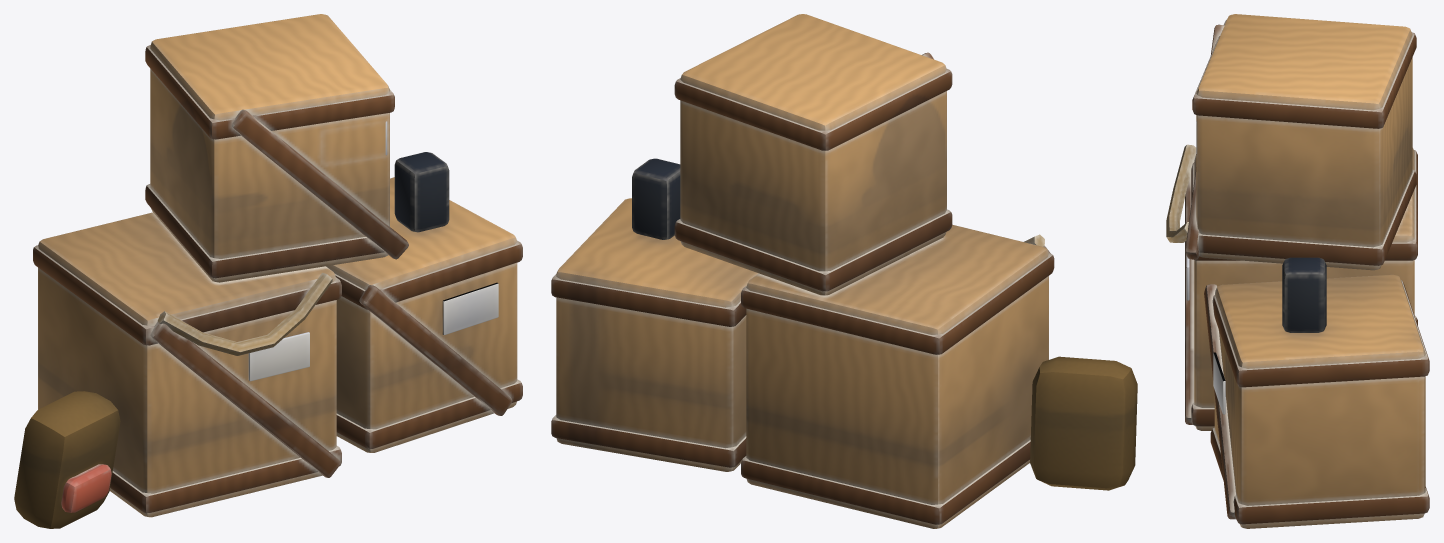
The model's file is storage_crate.glb.
The picture shows the model from 3 angles, left to right: view 1: azimuth 30°, elevation 25°; view 2: azimuth 150°, elevation 25°; view 3: azimuth 270°, elevation 25°; orthographic projection. The views are drawn at different scales.
Visible parts, largest first — view 1: SM_StorageCrate; view 2: SM_StorageCrate; view 3: SM_StorageCrate.
Part boxes in pixels (x1,y1,x2,y2): SM_StorageCrate: (14, 14, 522, 528); SM_StorageCrate: (551, 14, 1137, 528); SM_StorageCrate: (1166, 14, 1429, 528).
Size of what is drawn, in the model's own units: 1.82 by 1.3 by 0.8366.
Materials: 3 (2 with a texture image).
